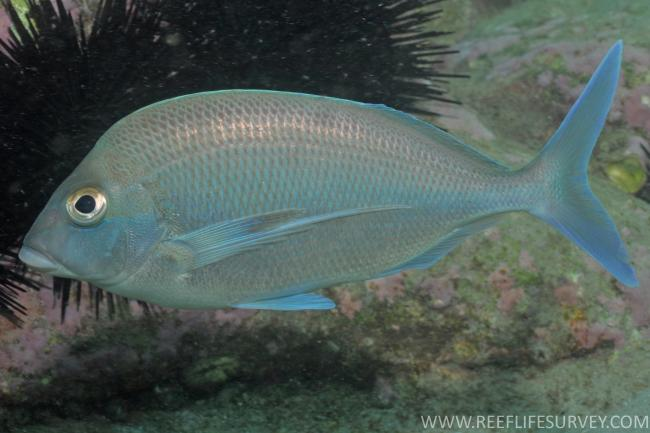fish: (18, 39, 641, 311)
